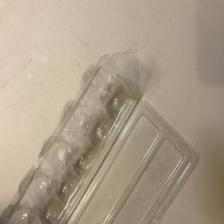plastic: (3, 54, 138, 224), (61, 98, 199, 224)
